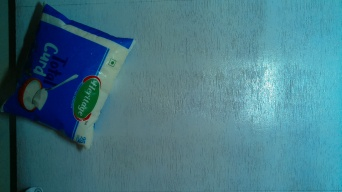m: (5, 1, 133, 149)
